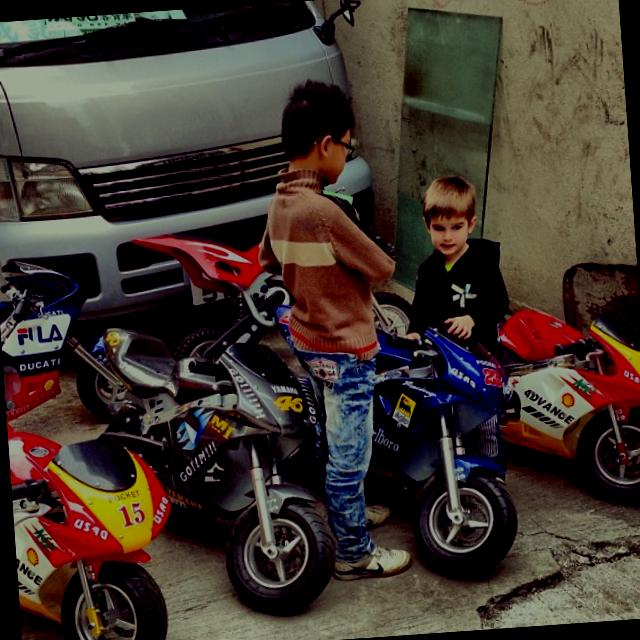Vehicle: (0, 0, 384, 350), (63, 312, 339, 626), (4, 378, 179, 640), (360, 317, 526, 584), (492, 301, 640, 513), (0, 251, 98, 420)
